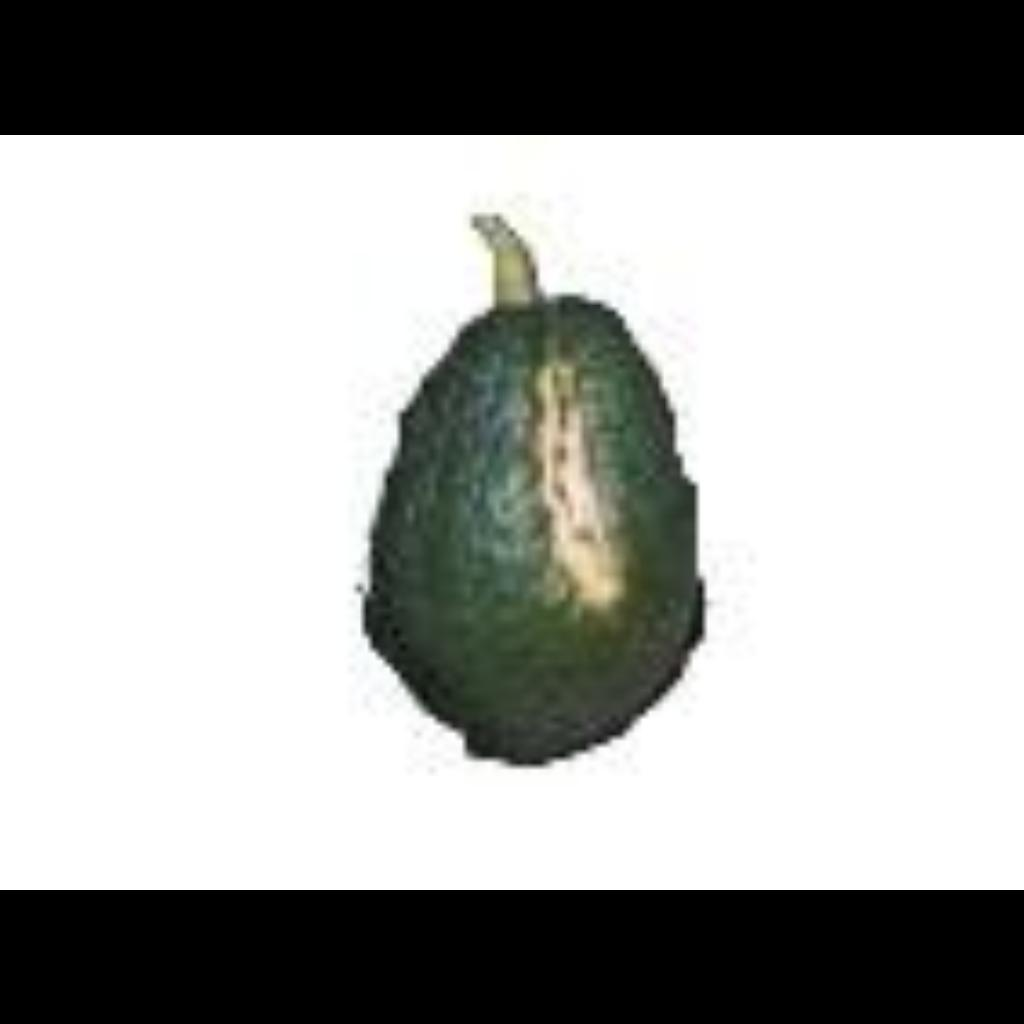sunblotch: (375, 301, 716, 773)
